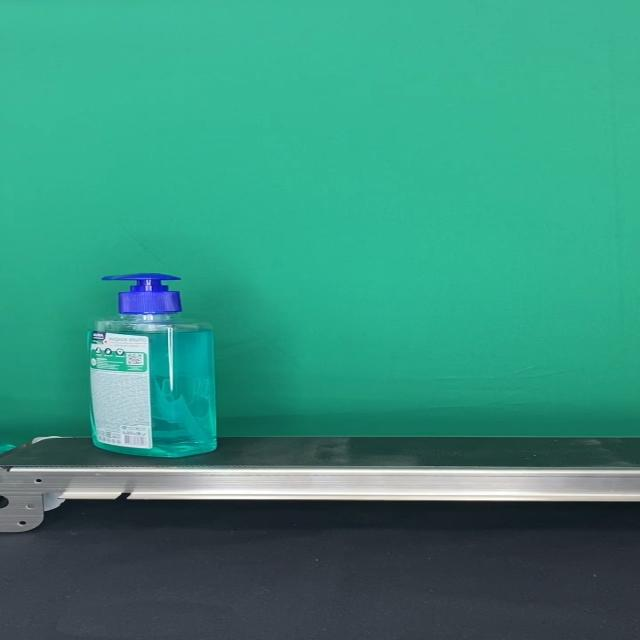Bottle: (86, 273, 217, 457)
Cap: (102, 273, 184, 315)
